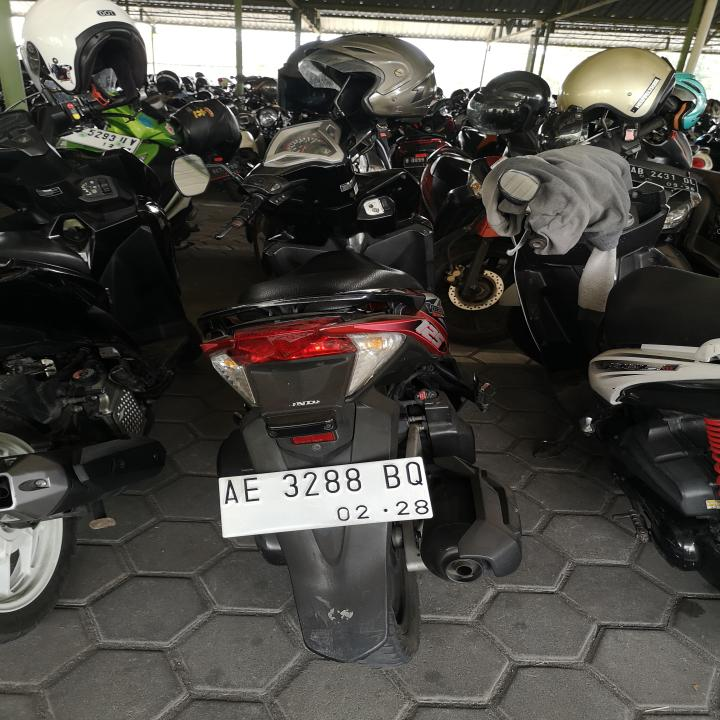plate: (211, 454, 438, 541), (61, 124, 140, 152)
